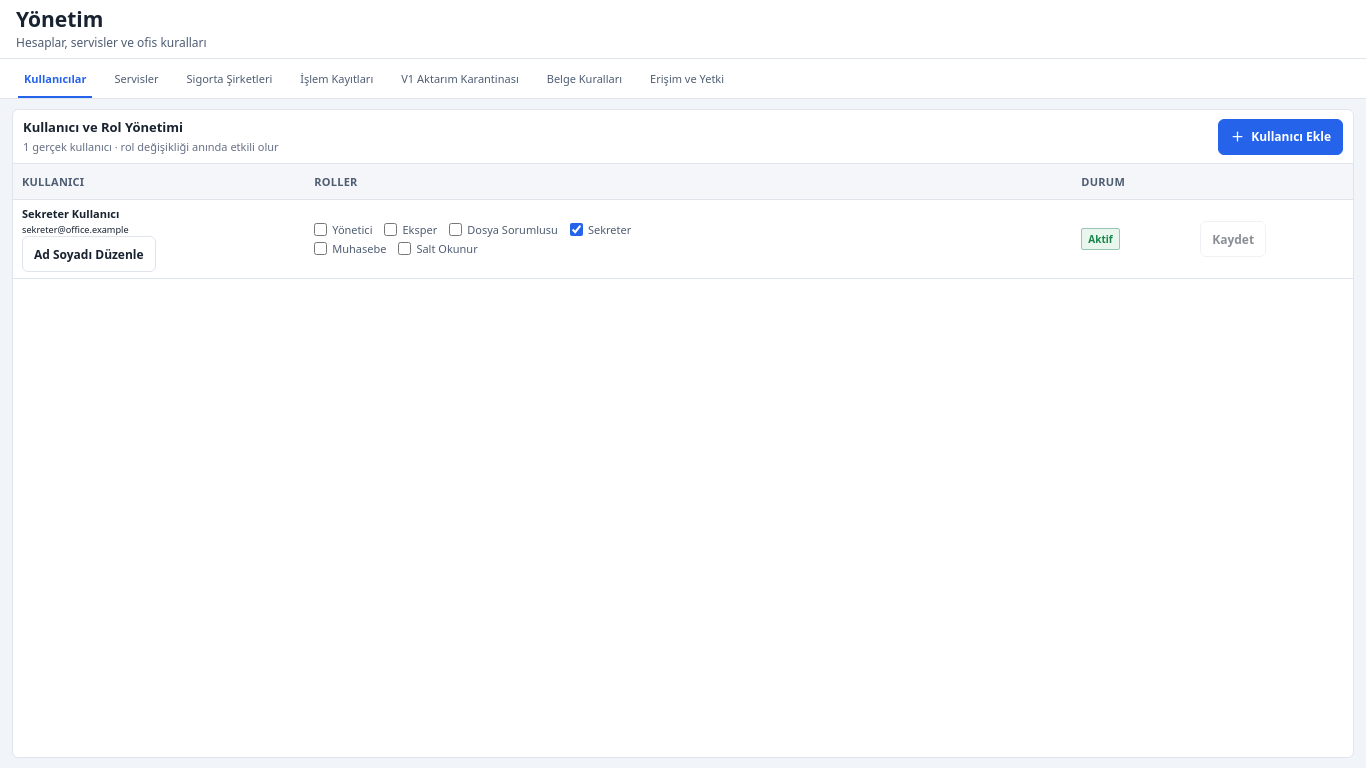
it: ManagementPage — HB-011 gerçek rol ataması (yalnız admin) › admin manually creates a user with chosen roles and sees the persisted response
Click the button "Kullanıcı Ekle" at (1281, 136), box [1218,118,1343,154]
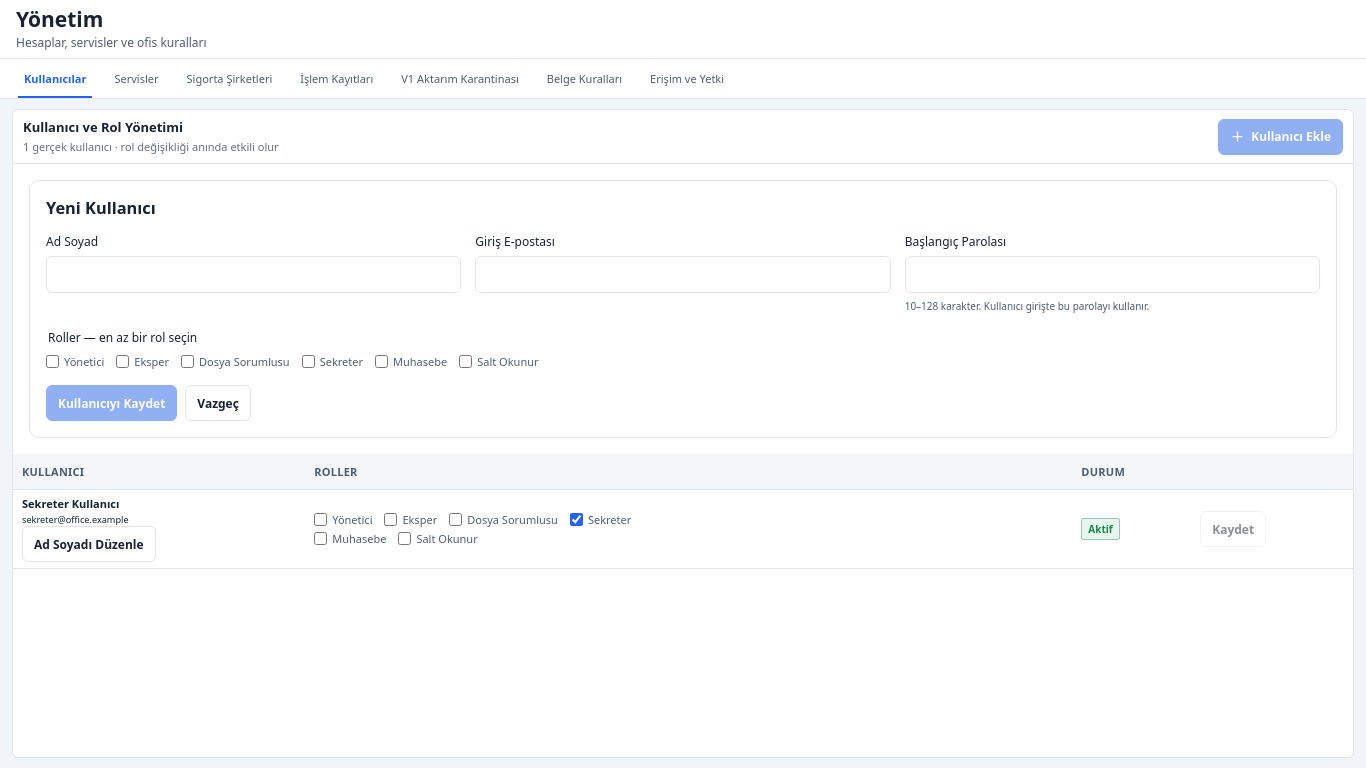
expect the button "Kullanıcıyı Kaydet" is disabled: met, box [46,385,177,421]
Type "Yeni Eksper" into the field labelled "Ad Soyad" at (254, 274), box [46,256,461,293]
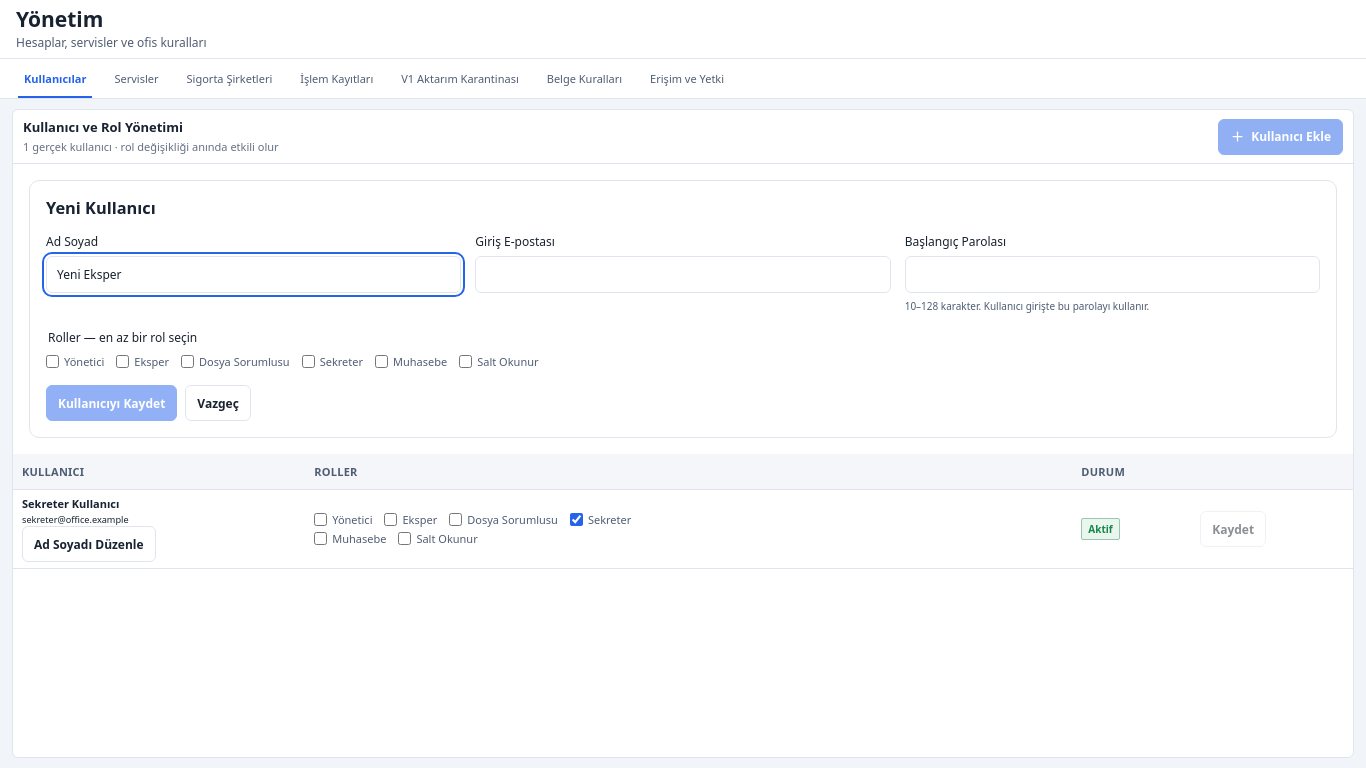
Type "expert@example.test" into the field labelled "Giriş E-postası" at (683, 274), box [475,256,891,293]
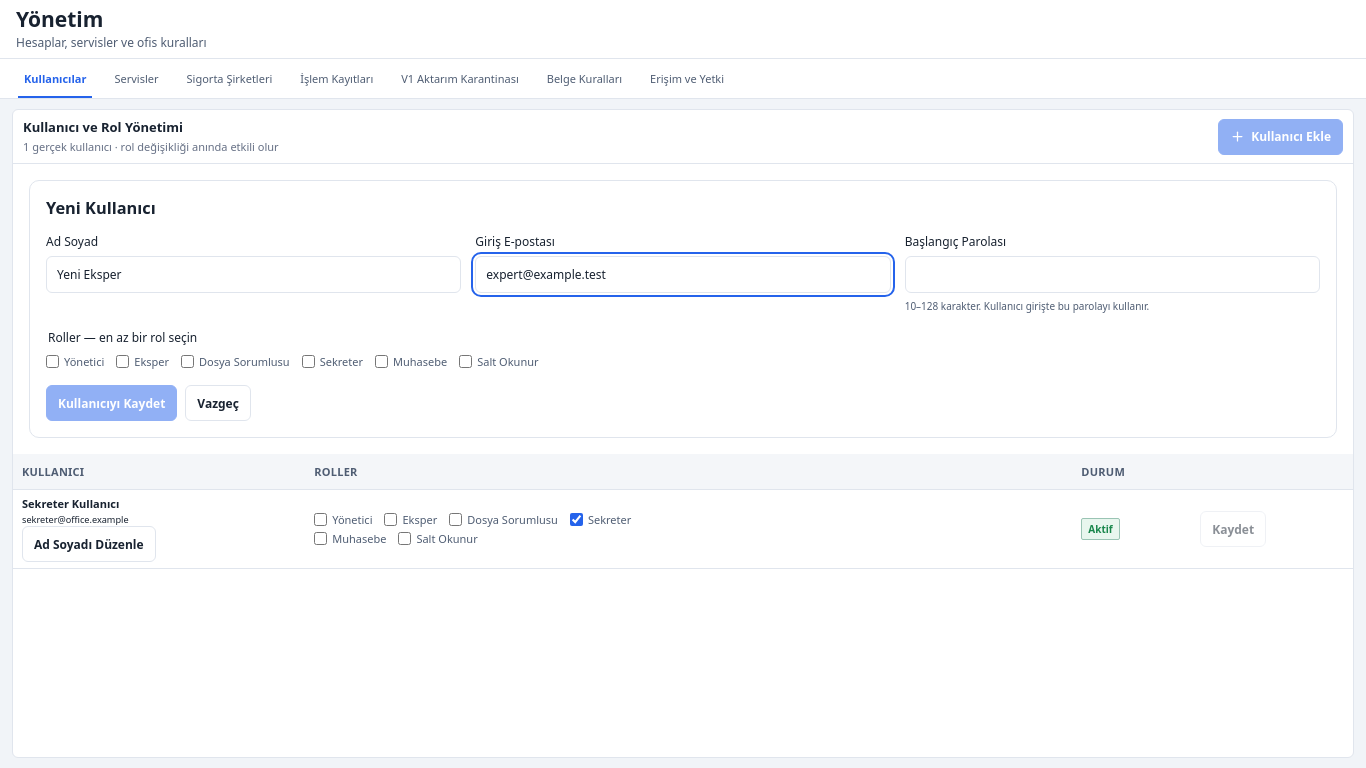
Type "sentetik-parola-25" into the password field labelled "Başlangıç Parolası" at (1112, 274), box [905,256,1320,293]
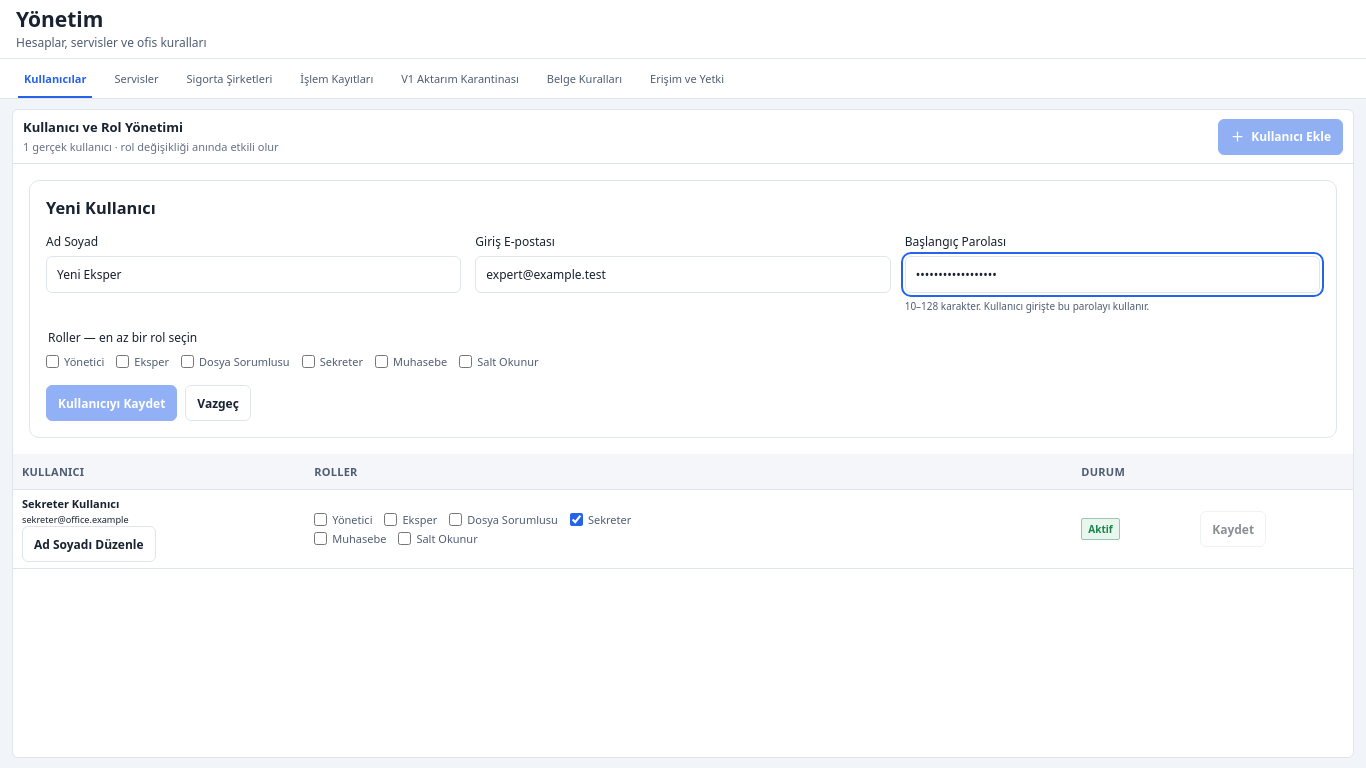
Click the checkbox labelled "Eksper" below "Roller — en az bir rol seçin" at (123, 362), box [116,355,129,368]
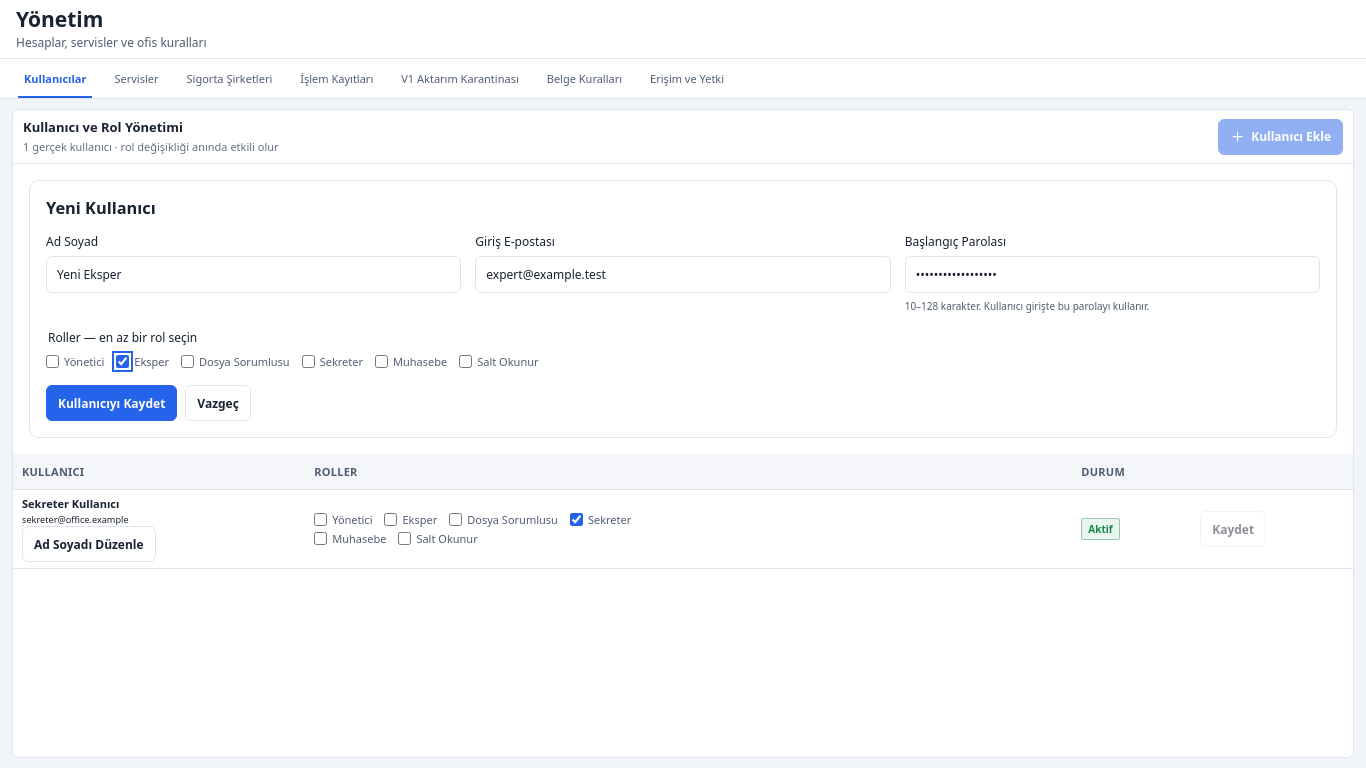
Click the button "Kullanıcıyı Kaydet" at (112, 403), box [46,385,177,421]
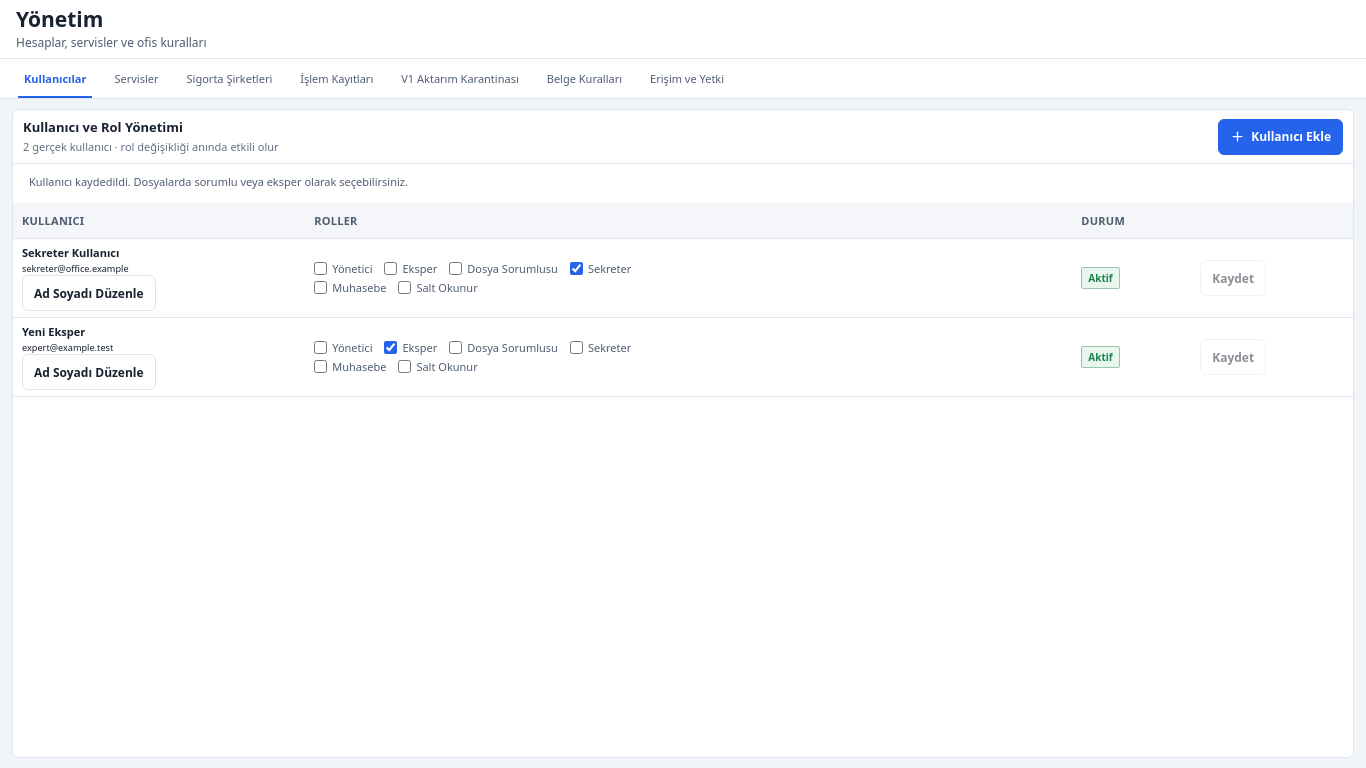
expect the text "Yeni Eksper" is shown: met, box [22,324,85,339]
expect the heading "Yeni Kullanıcı" is gone: met
expect the text "Kullanıcı kaydedildi. Dosyalarda sorumlu veya eksper olarak seçebilirsiniz." is shown: met, box [29,174,408,189]
